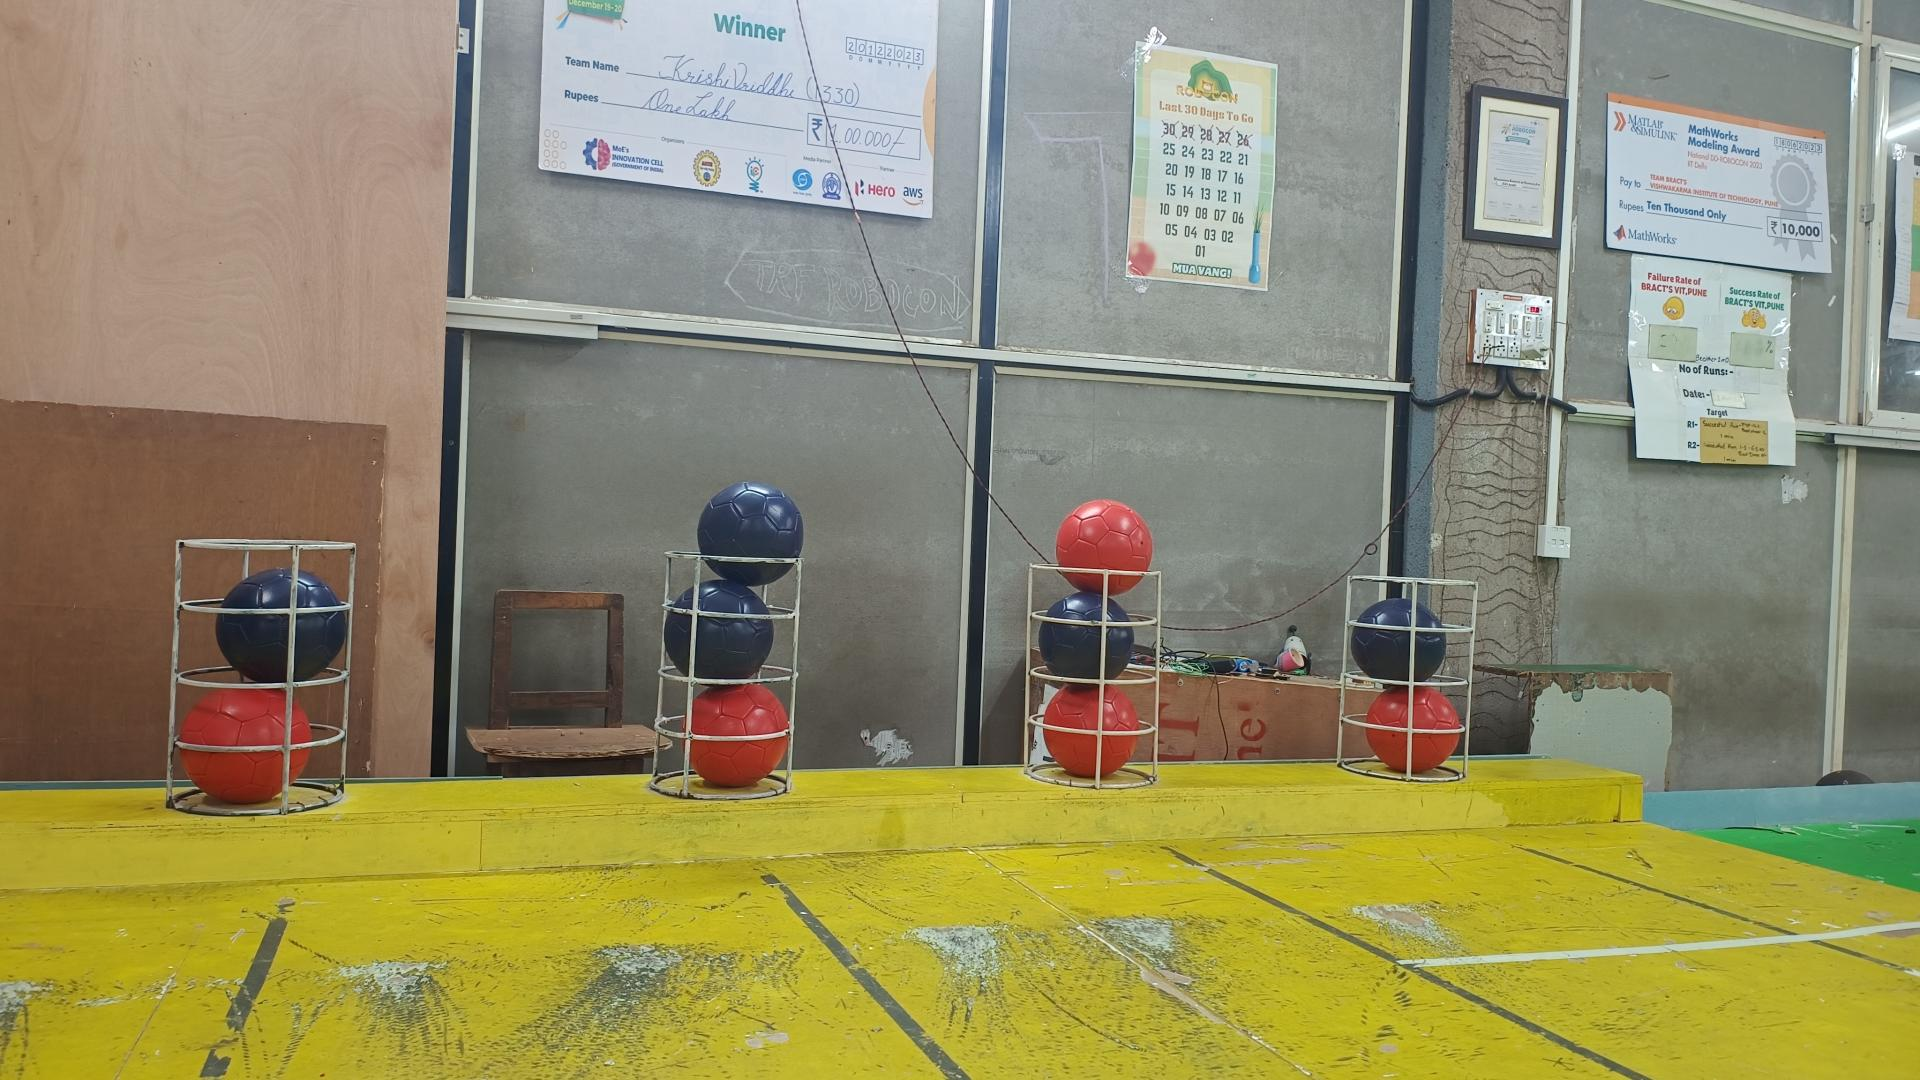dhoka: (214, 566, 348, 683), (663, 578, 773, 679), (698, 484, 803, 585), (1039, 588, 1137, 683), (1350, 596, 1448, 683)
laale: (179, 690, 311, 803), (682, 683, 787, 787), (1054, 498, 1151, 596), (1043, 686, 1139, 777), (1365, 686, 1462, 773)
